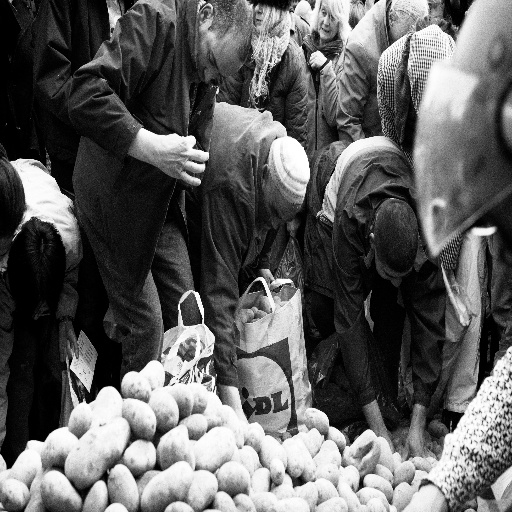hand: (149, 123, 208, 180), (398, 425, 435, 462), (58, 316, 79, 365), (398, 491, 449, 511), (256, 268, 282, 295), (375, 429, 397, 455), (308, 49, 329, 70), (228, 407, 250, 426)
